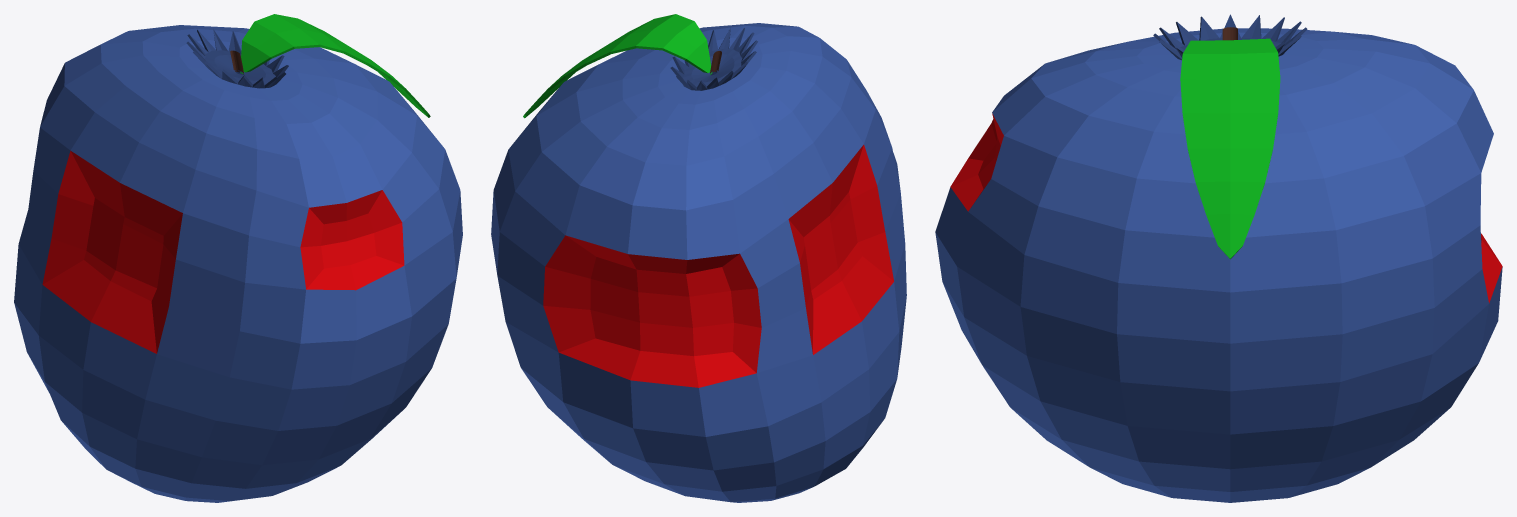
File: Bad_5.fbx
3 renders of one model, left to right at view 1: azimuth 30°, elevation 25°; view 2: azimuth 150°, elevation 25°; view 3: azimuth 270°, elevation 25°, orthographic. The views are drawn at different scales.
Parts seen in each view (by area): view 1: BerryBad.005; view 2: BerryBad.005; view 3: BerryBad.005.
Boxes of the visible parts, x1,y1,x2,y2 form: BerryBad.005: [14, 14, 462, 502]; BerryBad.005: [491, 14, 906, 502]; BerryBad.005: [935, 14, 1502, 502].
Bounding box in the file's own units: 158 × 185 × 200.
